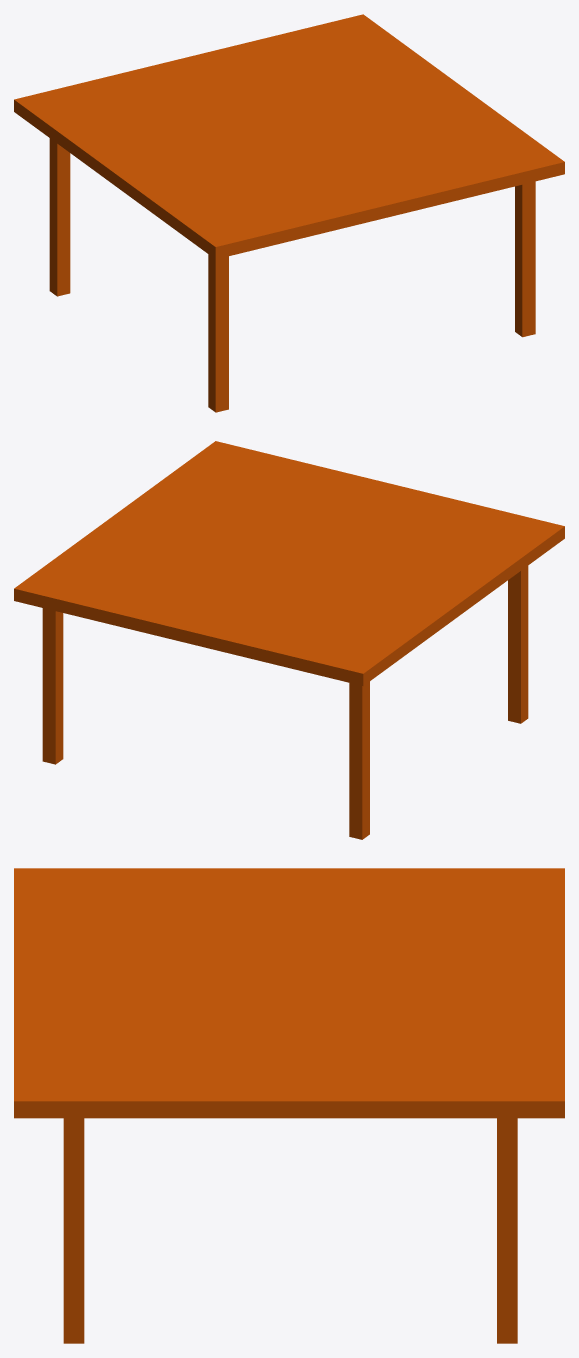
File: table2.fbx
3 renders of one model, top to bottom at view 1: azimuth 30°, elevation 25°; view 2: azimuth 150°, elevation 25°; view 3: azimuth 270°, elevation 25°, orthographic. The views are drawn at different scales.
Parts seen in each view (by area): view 1: Cube; view 2: Cube; view 3: Cube.
Boxes of the visible parts, left/top/right/bottom form: Cube: left=14, top=14, right=564, bottom=412; Cube: left=14, top=441, right=564, bottom=839; Cube: left=14, top=868, right=564, bottom=1343.
Size of the model in its own units: 7.63 by 3.83 by 7.63.
